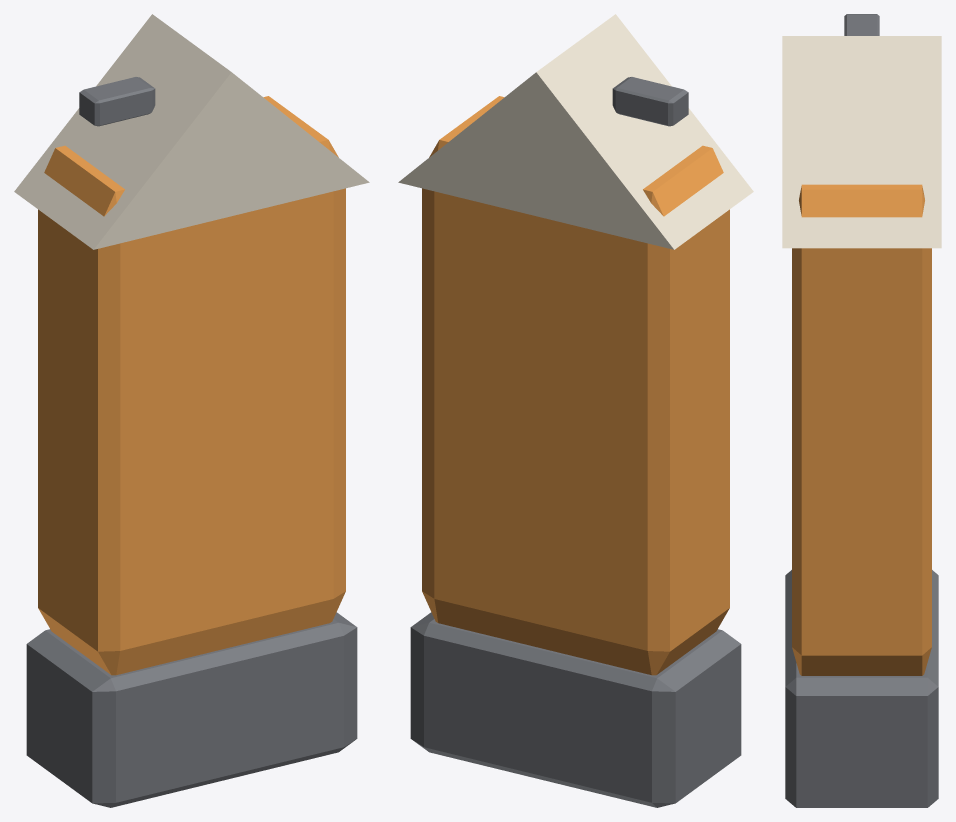
The model's file is b20_lifering_emergency_stand.glb.
3 renders of one model, left to right at view 1: azimuth 30°, elevation 25°; view 2: azimuth 150°, elevation 25°; view 3: azimuth 270°, elevation 25°, orthographic.
Visible parts, largest first — view 1: b20_lifering_emergency_stand; view 2: b20_lifering_emergency_stand; view 3: b20_lifering_emergency_stand.
Boxes of the visible parts, <box> form: b20_lifering_emergency_stand: <box>14,14,369,807</box>; b20_lifering_emergency_stand: <box>398,14,753,807</box>; b20_lifering_emergency_stand: <box>782,14,941,807</box>.
Bounding box in the file's own units: 0.803 × 1.98 × 0.4.
